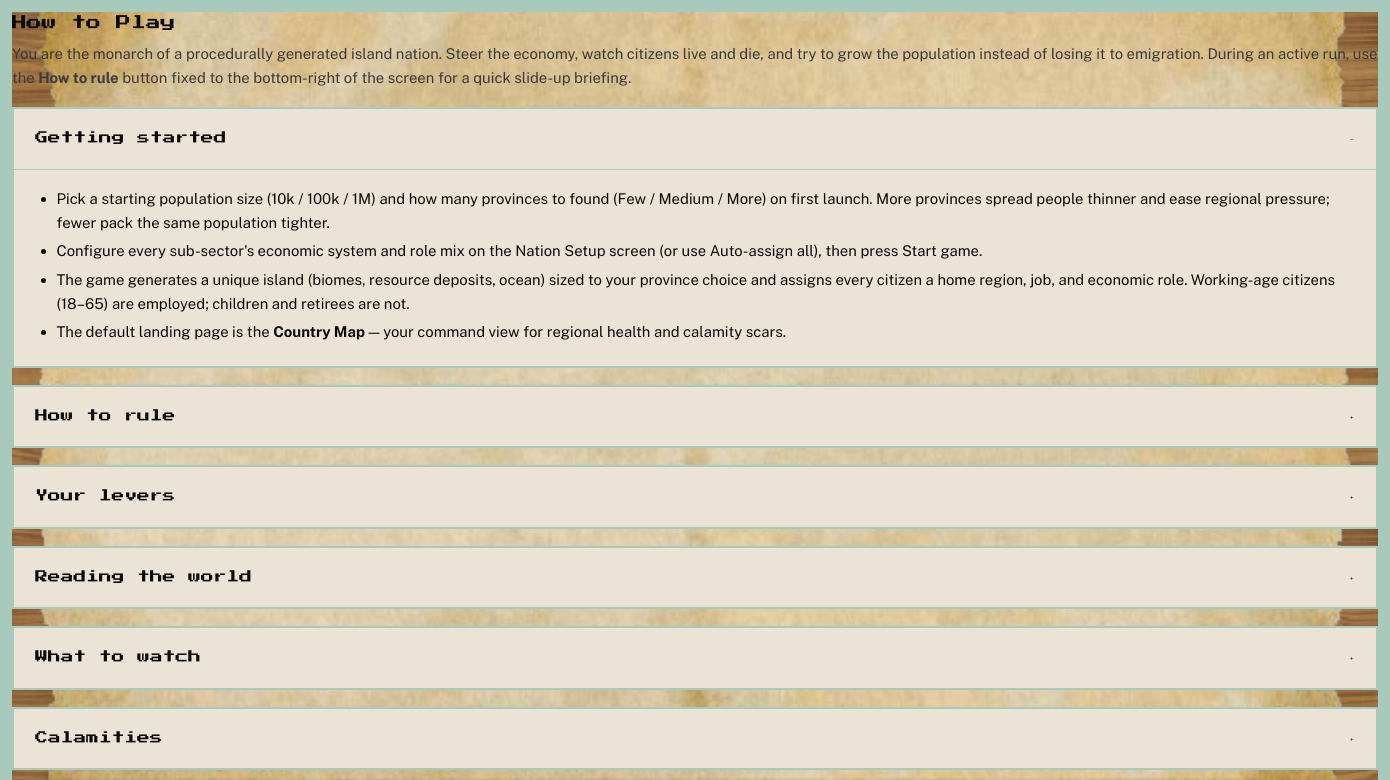
InstructionsPage › expands a collapsed section when its summary is clicked
Expected: the text "Labor edicts (mid-game)" is not shown
Click the heading "Your levers": (105, 497) 35,488 -> 176,505
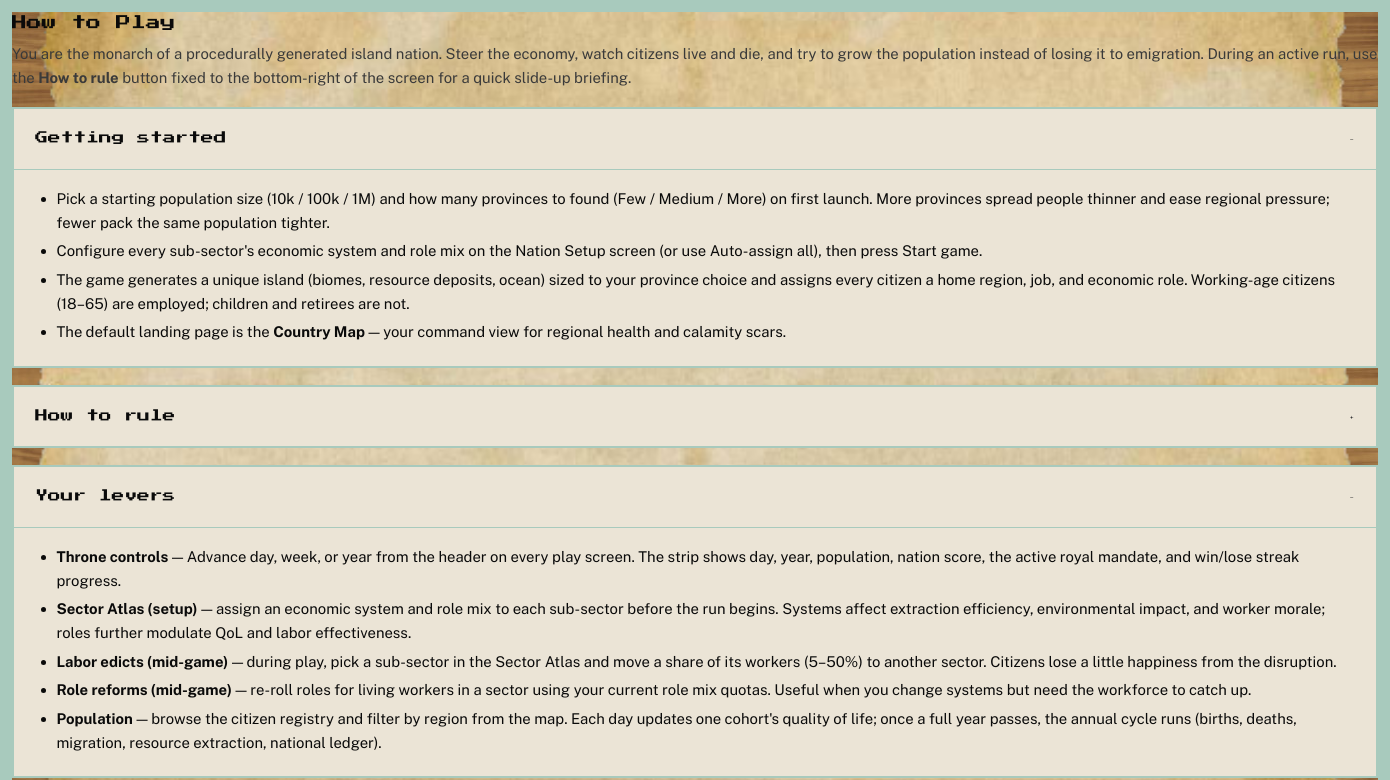
Now the text "Labor edicts (mid-game)" is shown, box 56,653 -> 228,670
